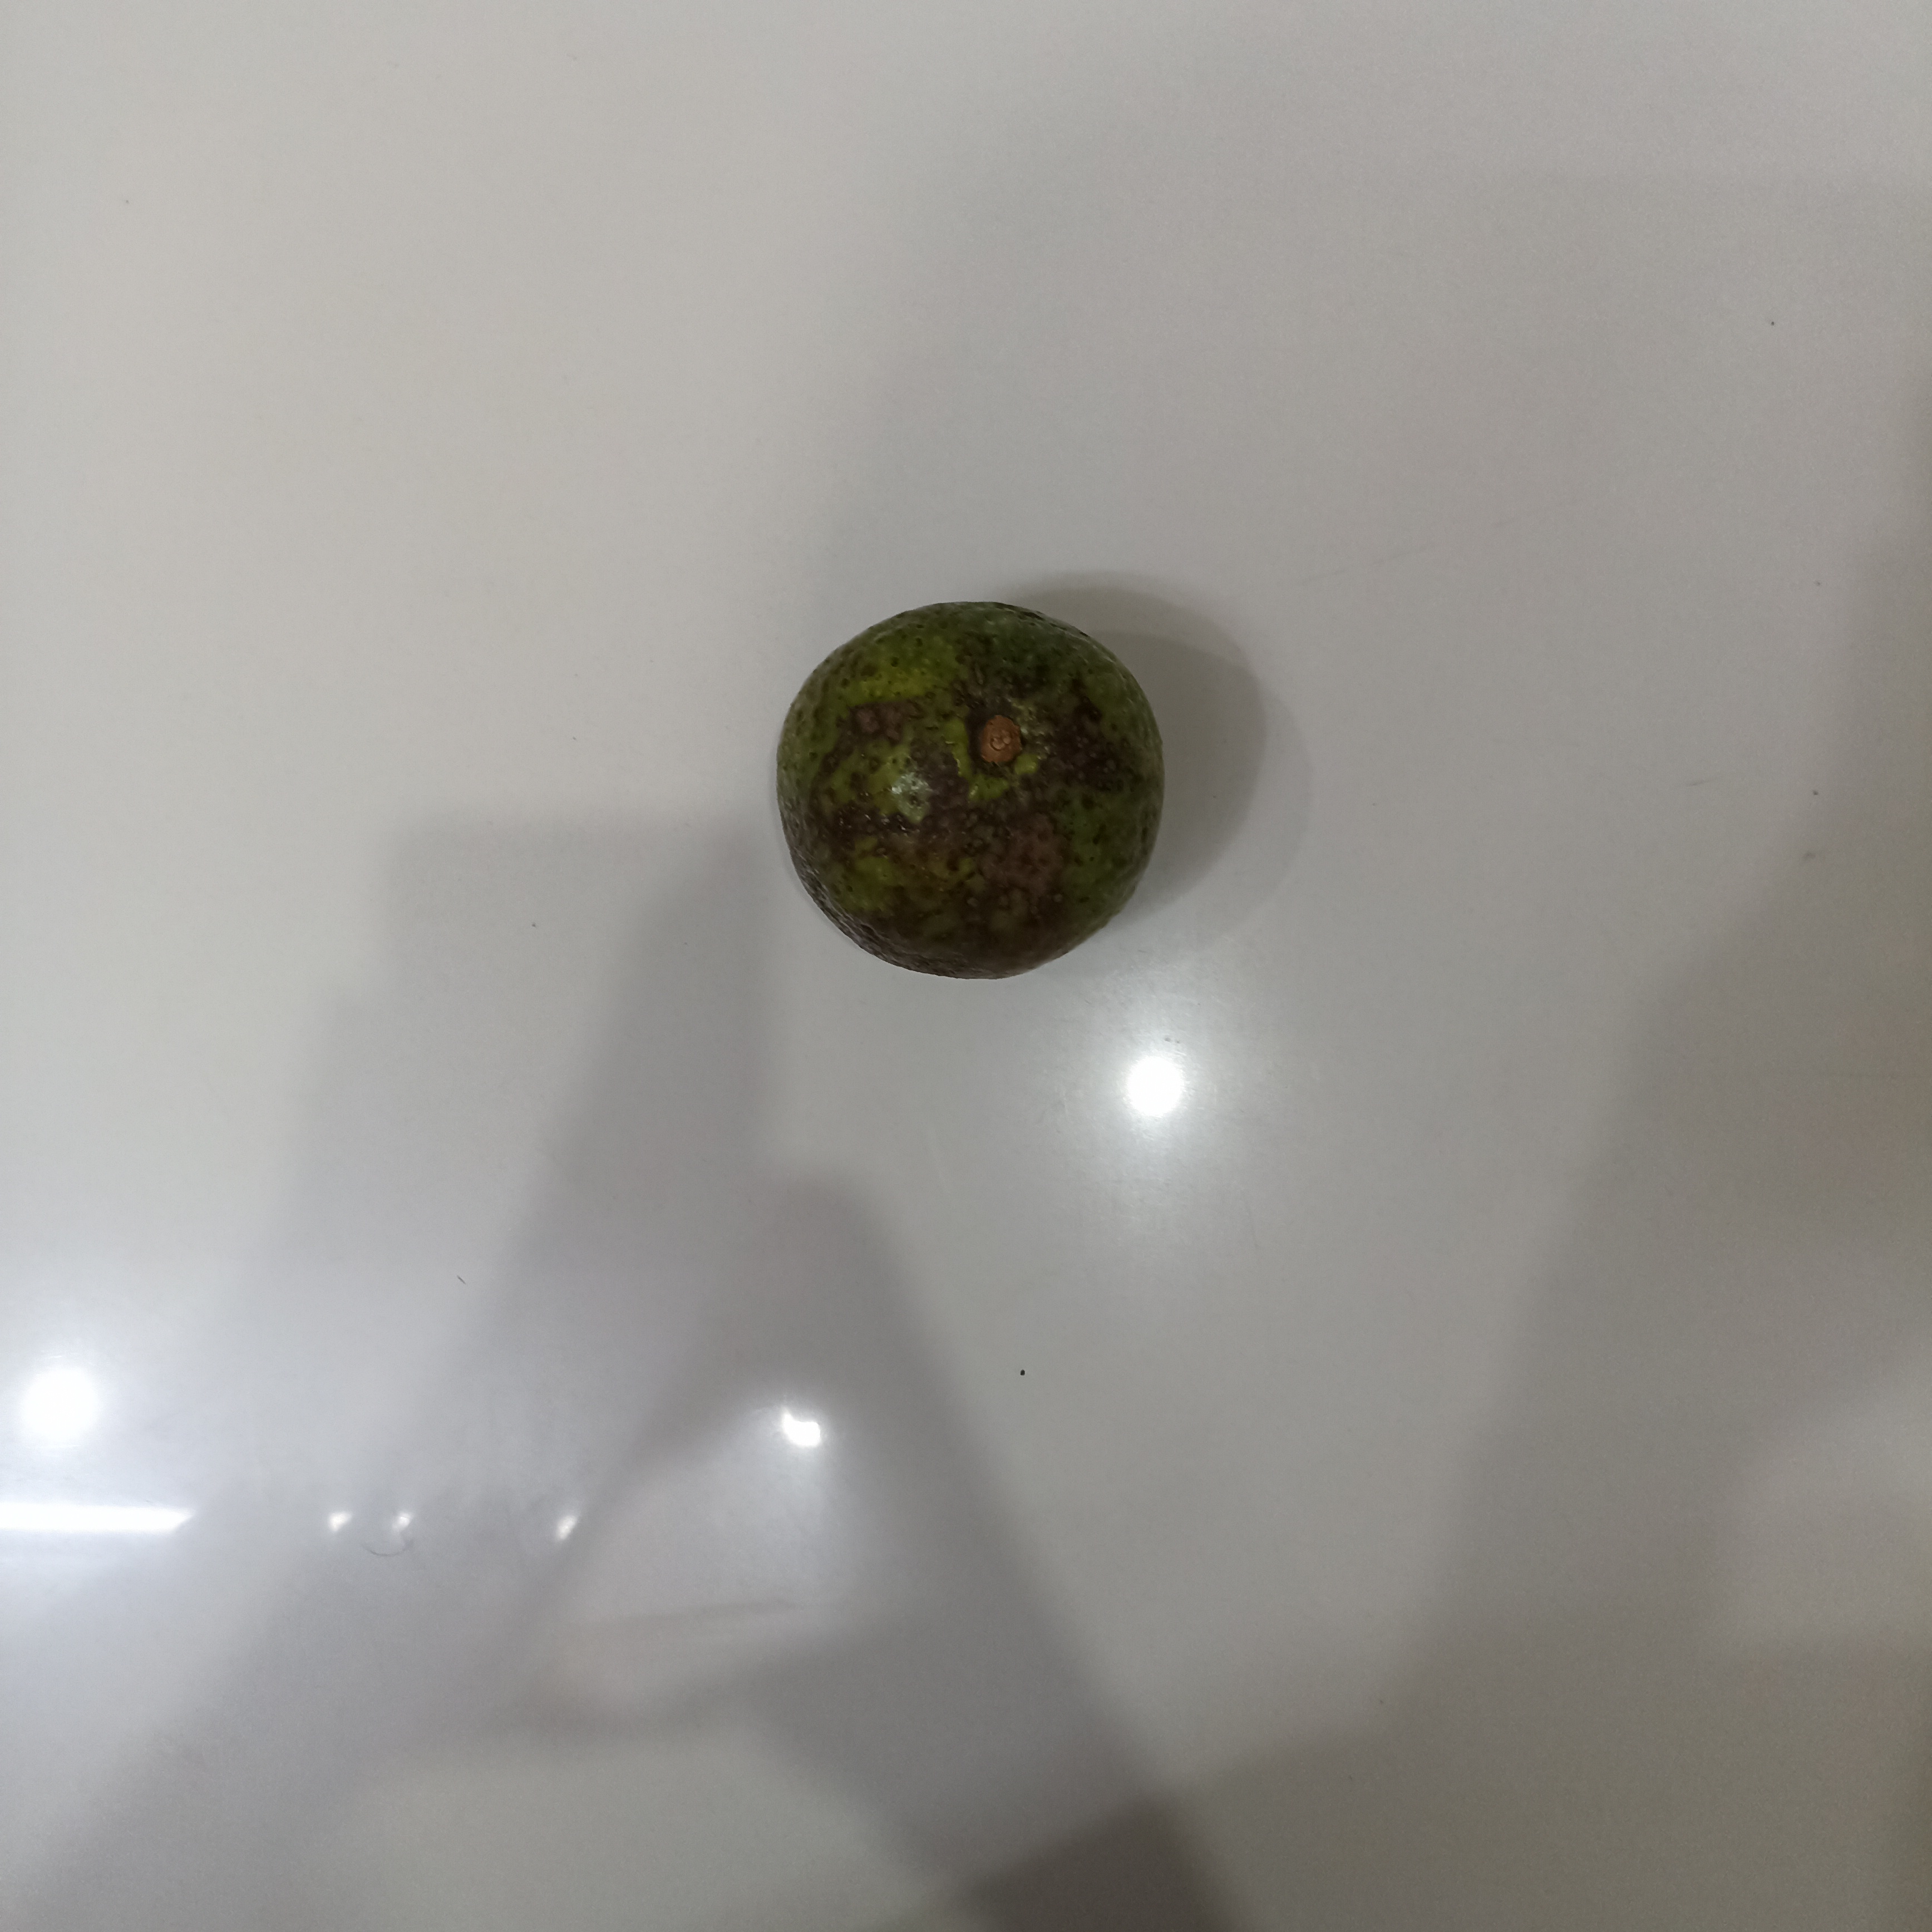Bo: (778, 598, 1169, 984)
